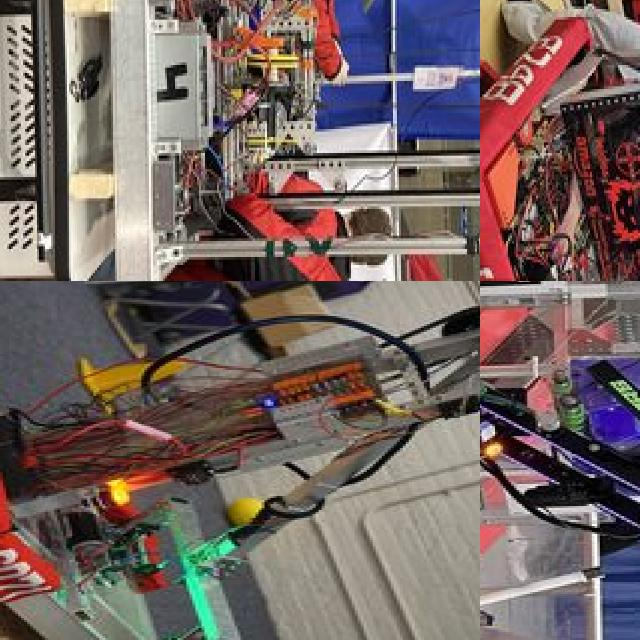FRC-Robots: (0, 281, 480, 640), (90, 0, 480, 281), (480, 346, 640, 640), (480, 0, 640, 281)
